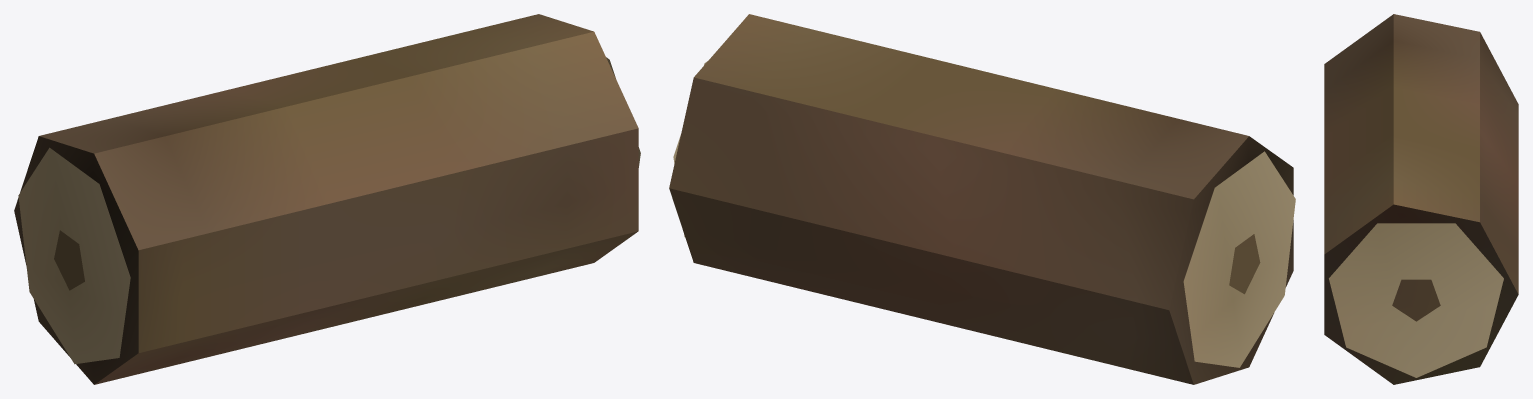
File: SM_Fuel_Wood.fbx
3 renders of one model, left to right at view 1: azimuth 30°, elevation 25°; view 2: azimuth 150°, elevation 25°; view 3: azimuth 270°, elevation 25°, orthographic. The views are drawn at different scales.
Parts seen in each view (by area): view 1: SM_Fuel_Wood; view 2: SM_Fuel_Wood; view 3: SM_Fuel_Wood.
Part boxes in pixels (<box>): SM_Fuel_Wood: <box>14,14,640,384</box>; SM_Fuel_Wood: <box>669,14,1295,384</box>; SM_Fuel_Wood: <box>1324,14,1518,384</box>.
Bounding box in the file's own units: 15.6 × 6.63 × 6.46.
1 material, 1 textured.
